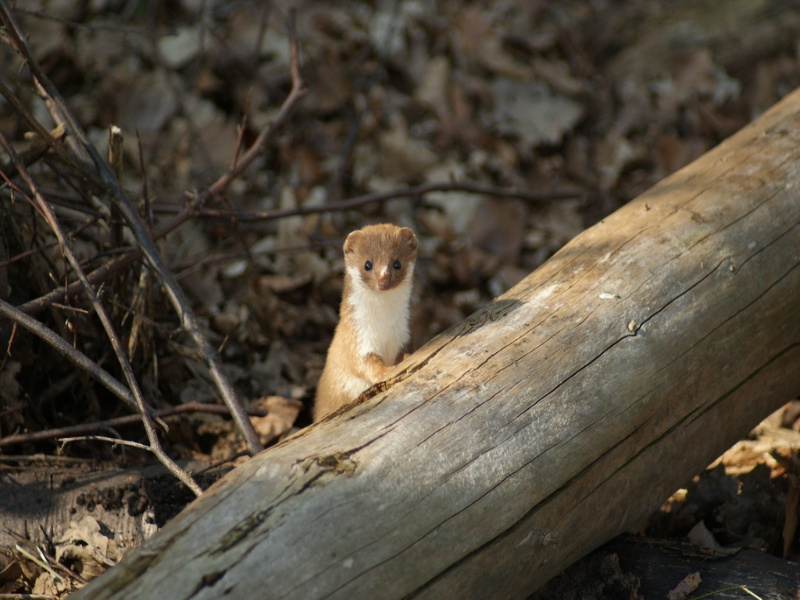minkish: (306, 220, 425, 440)
